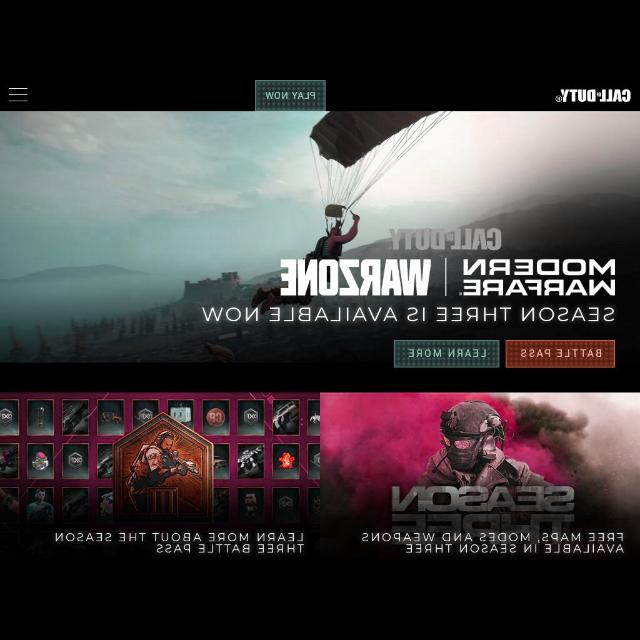button: (506, 339, 614, 368), (394, 342, 498, 368), (256, 82, 324, 110)
icon: (6, 86, 30, 106)
image: (1, 113, 639, 391), (322, 393, 638, 559), (1, 394, 320, 558), (552, 86, 634, 106)
text: (520, 348, 602, 358), (408, 348, 488, 358), (264, 89, 316, 101)
toolbar: (0, 80, 638, 112)
